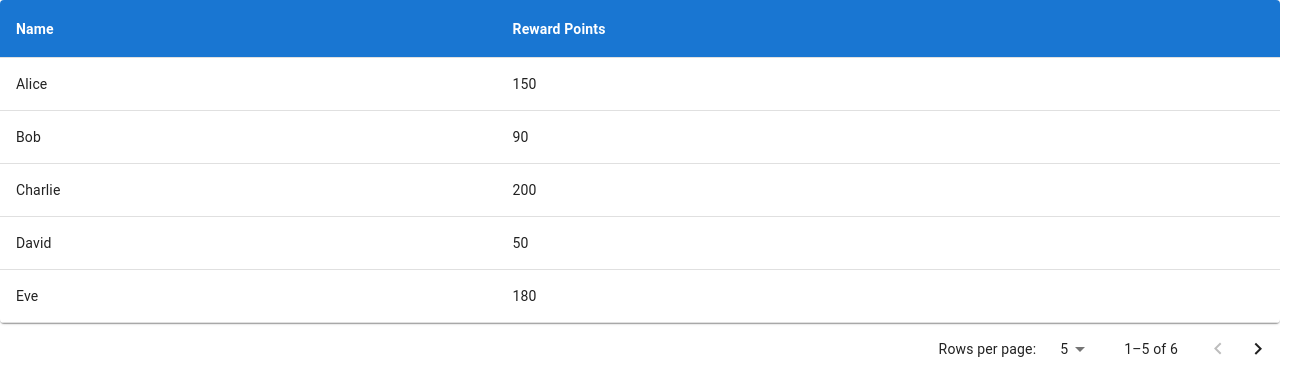
Test: DynamicTable (paginated table) › navigates to next and previous page
This screenshot has width=1292, height=386.
Expected: the text "Alice" is shown, [0, 58, 496, 111]
What coordinates should you click on to do the following:
click the button named "Go to next page"
I would click on:
 (1258, 349)
Its box is [1238, 329, 1278, 369].
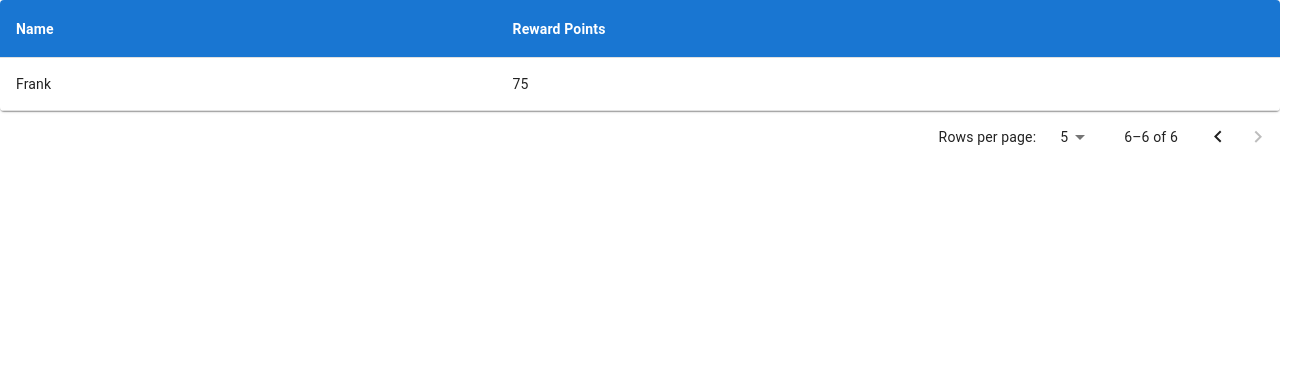
Now the text "Alice" is gone
What coordinates should you click on to do the following:
click the button named "Go to previous page"
I would click on:
 (1218, 137)
Its box is [1198, 117, 1238, 157].
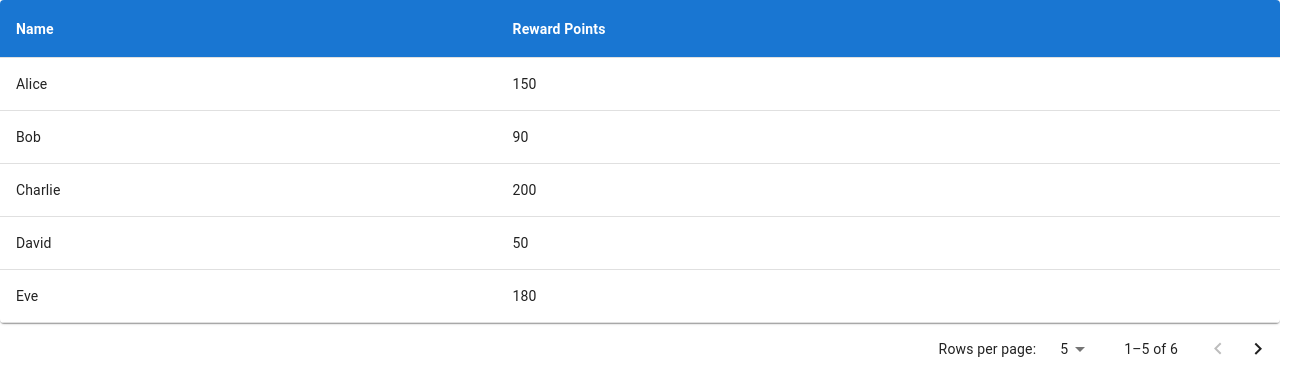
Now the text "Alice" is shown, box [0, 58, 496, 111]
